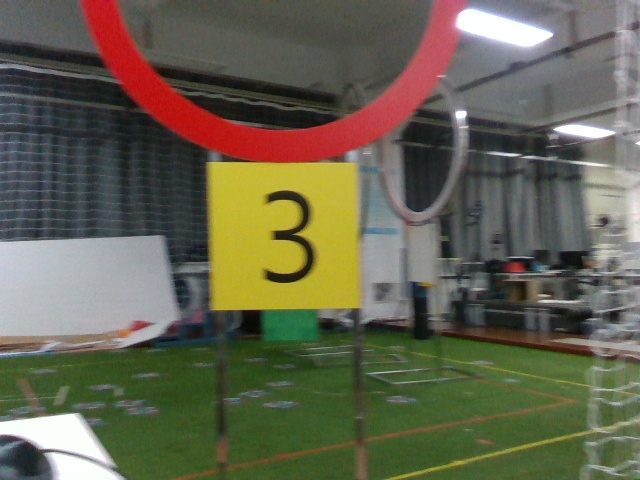target: (208, 167, 359, 304)
